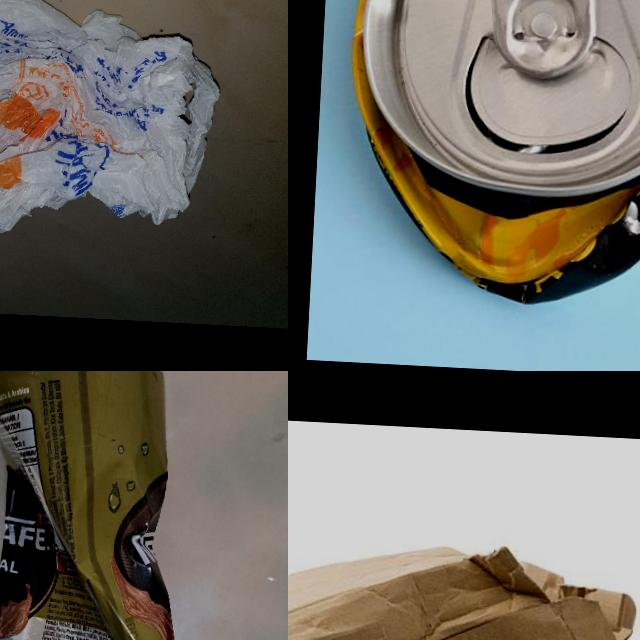aba de lata: (487, 0, 603, 84)
lata: (343, 0, 640, 320), (0, 371, 210, 640)
papelão: (288, 524, 640, 640)
sacola plástica: (0, 0, 226, 243)
